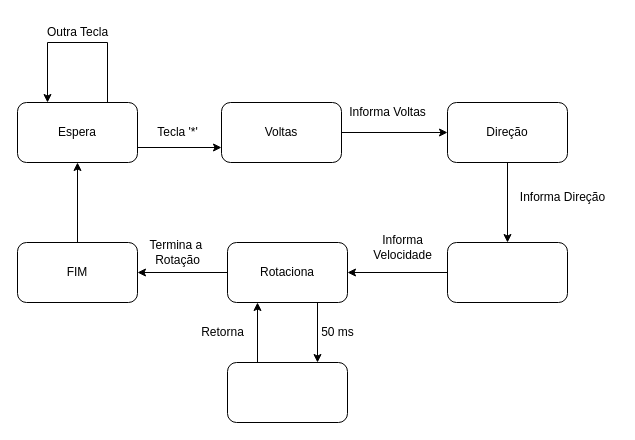
Image size: 635x440. Some labels were removed from this diagram. The shapes that lost their labels are listed below. From the top down, each one's centre as x and y in pixels, then its label:
pixel 507 272: Velocidade
pixel 287 392: Alterna_LED
